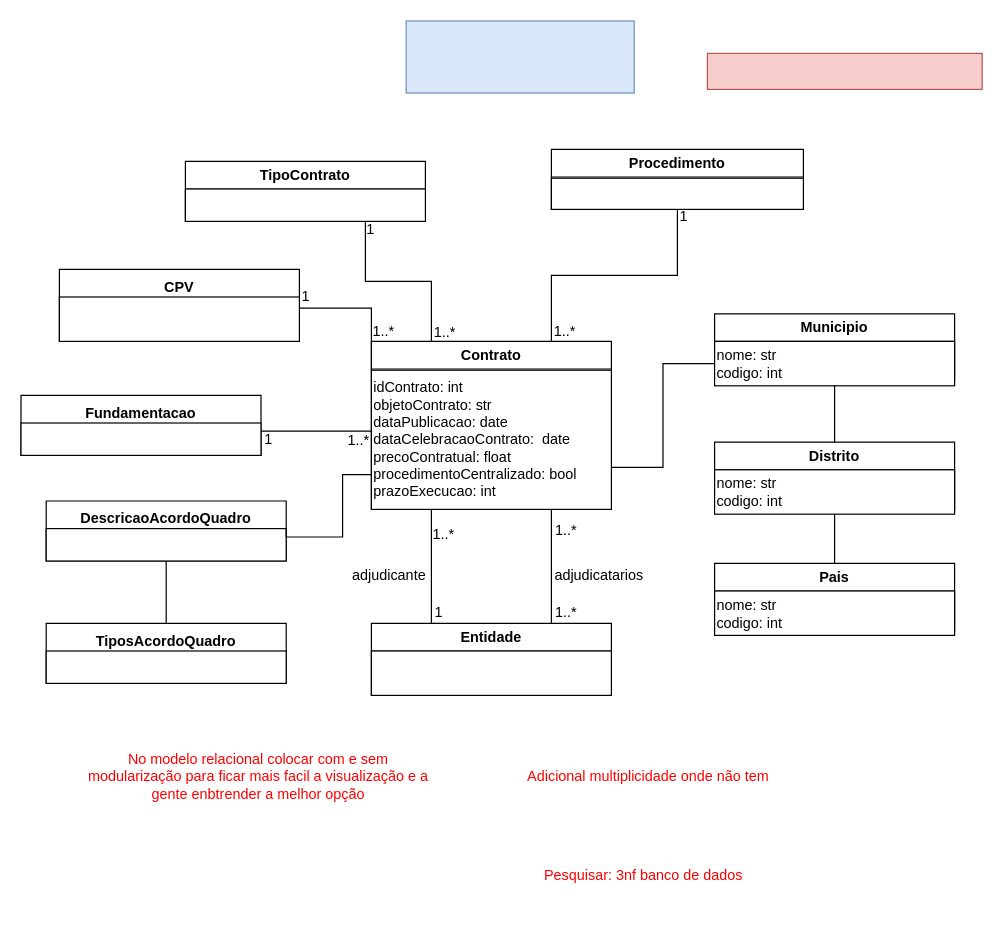
The diagram is 1003 pixels wide and 932 high, and some of its shapes have lost their labels. The centre of each missing label's shape, as x and y in pixels:
codigoCPV: str descricao: str: (x=178, y=318)
descricaoAcordoContrato: str: (x=165, y=666)
Diagrama UML Contratos públicos: (x=519, y=56)
fundamentacao: str: (x=140, y=438)
nif: int designacao: str: (x=490, y=672)
OBS: Acho que as multiplicidades estão erradas então relevem: (x=844, y=70)
tipoContrato: str: (x=304, y=204)
tipoProcedimento: str: (x=676, y=193)
